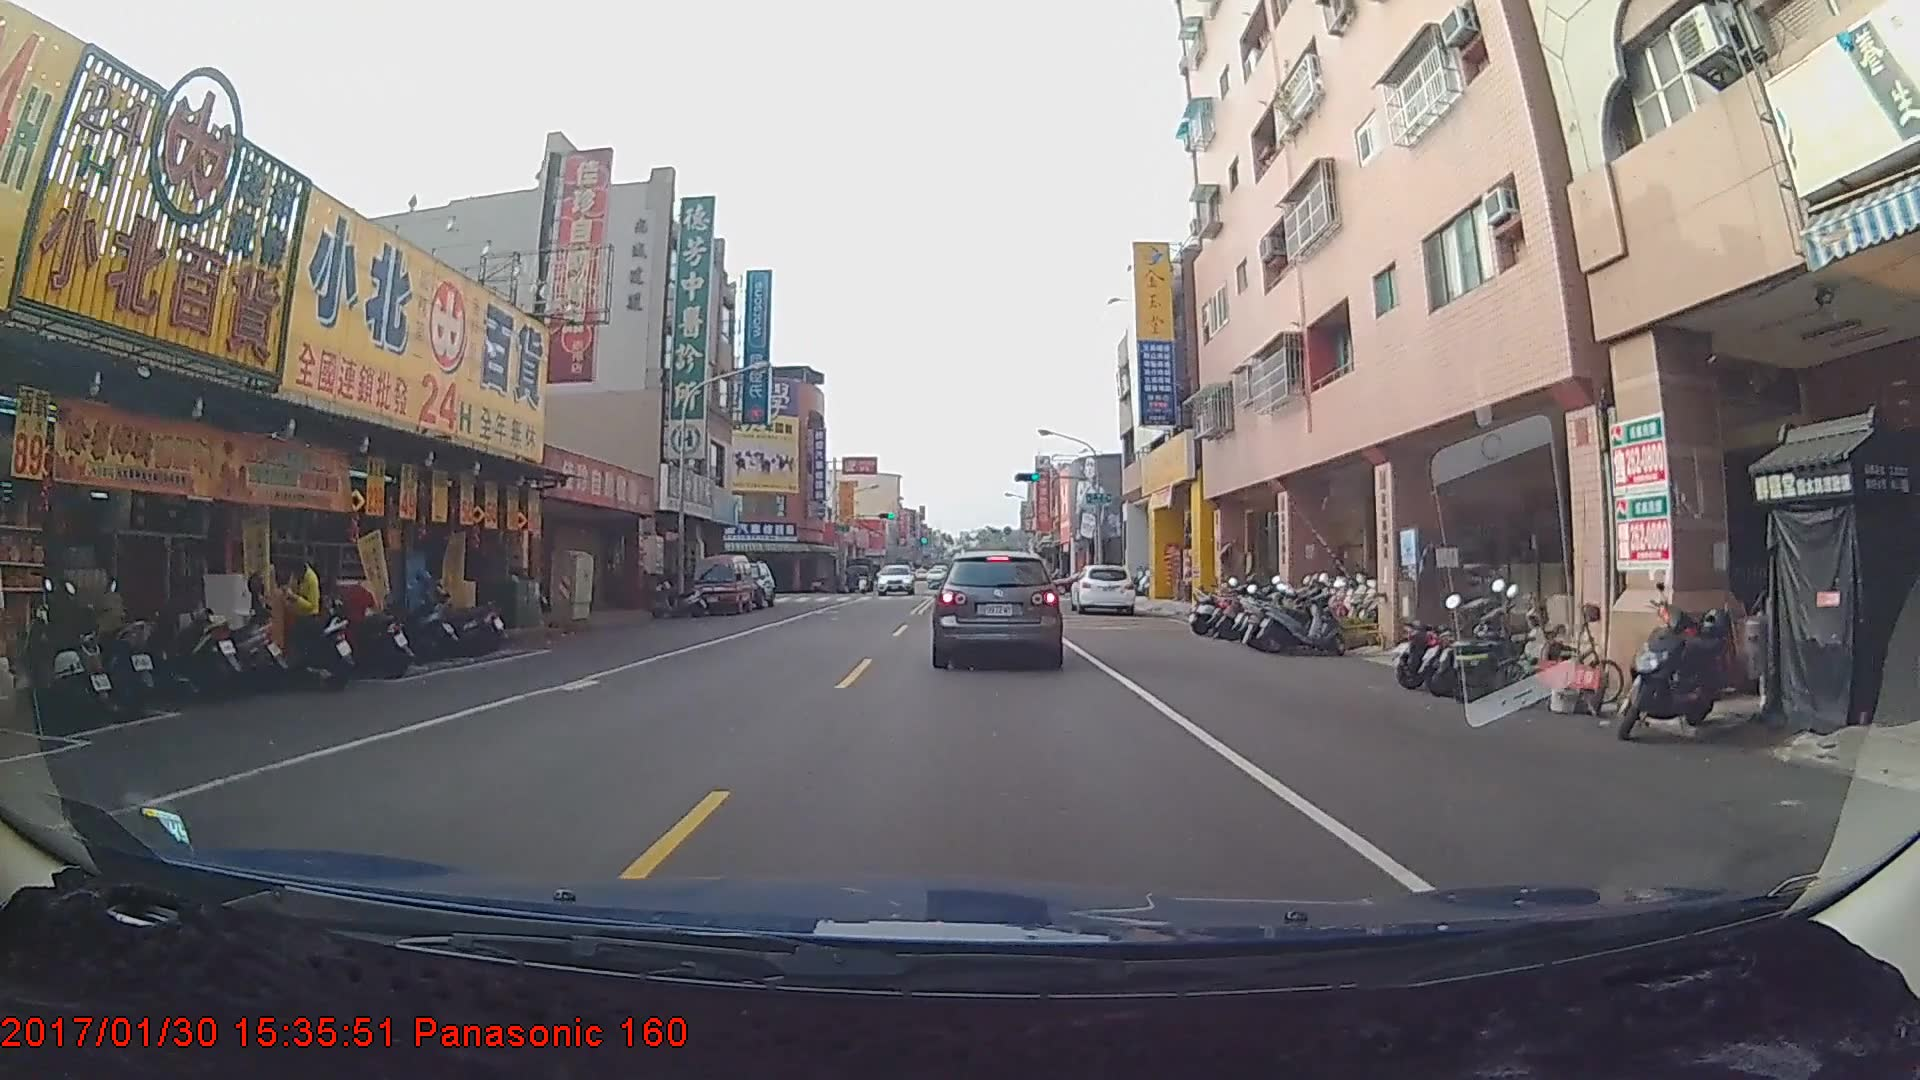pedestrian: (274, 547, 324, 660)
vehicle: (932, 546, 1065, 667), (691, 560, 752, 624), (1071, 564, 1135, 615), (872, 559, 916, 596)
